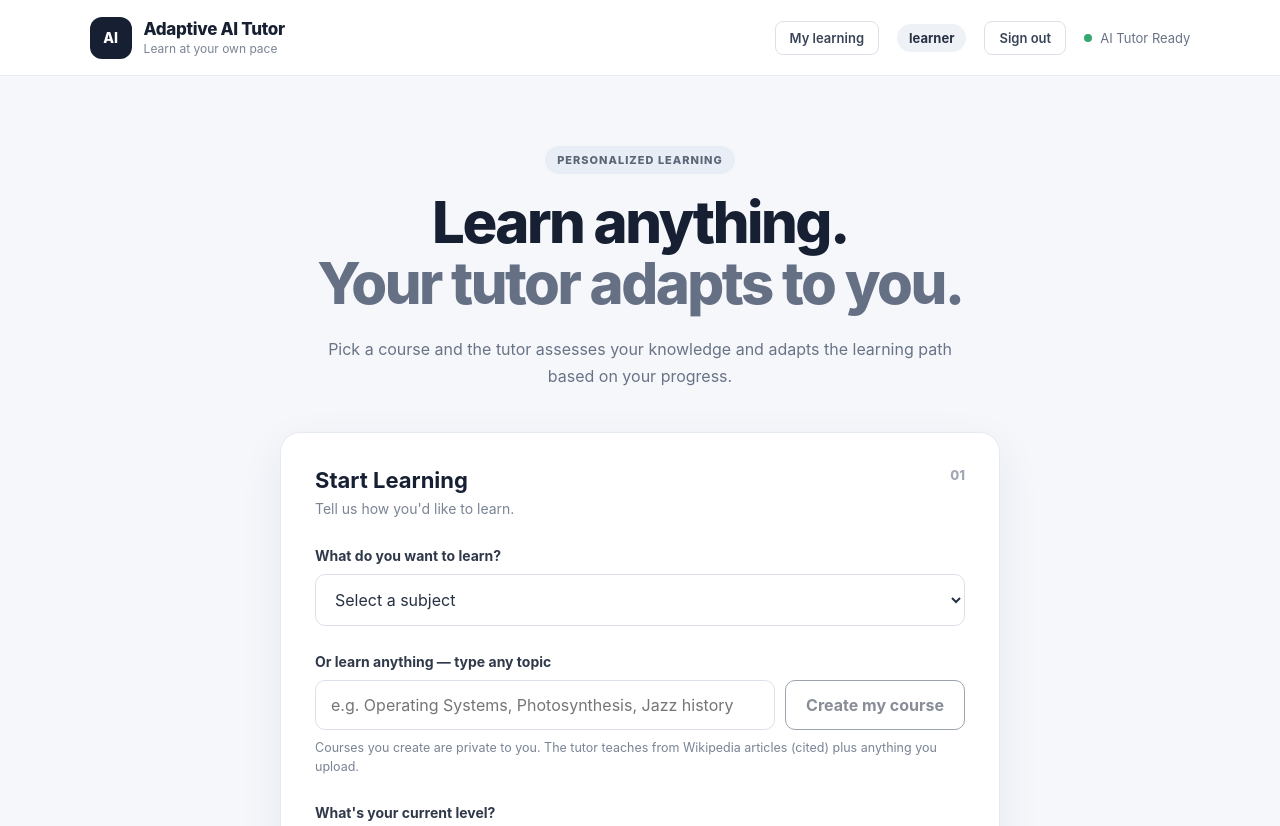
Scenario: App › shows a backend error from starting the diagnostic as a notice
Select "Computer Networks" in the dropdown labelled "What do you want to learn?": (640,600) [315,574,965,626]
(page scrolled)
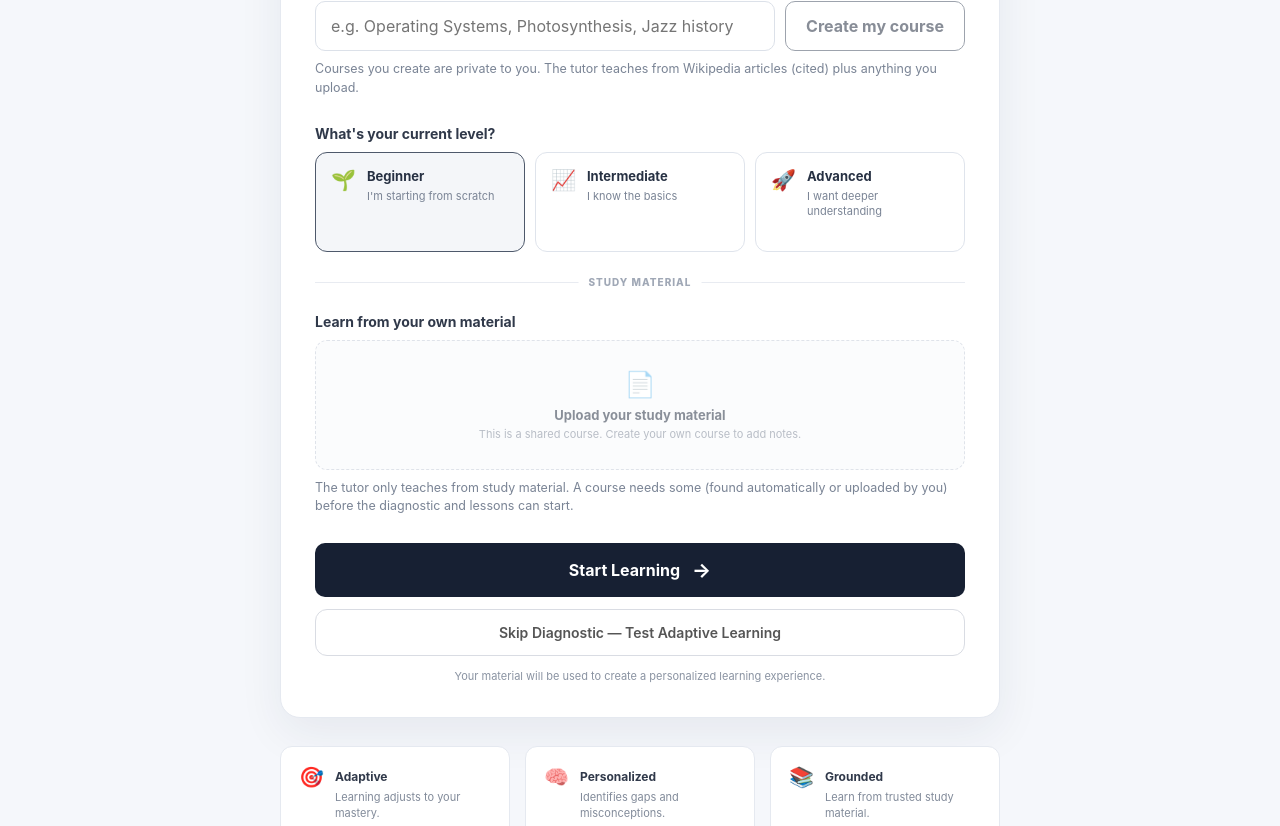
Click the button "Start Learning →": (640,570) [315,543,965,597]
(page scrolled)
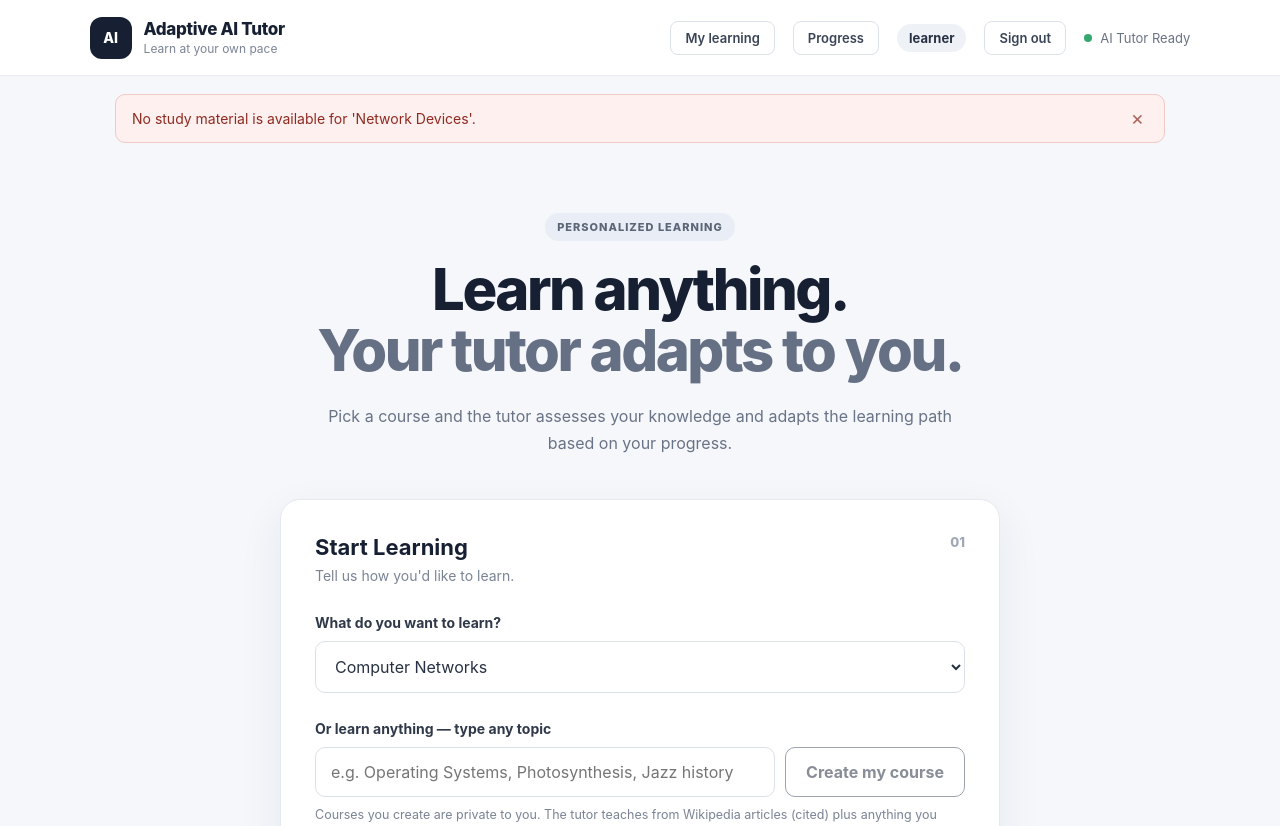
Expected: the message "No study material is available for 'Network Devices'. ×" is shown, [115,94,1165,143]
